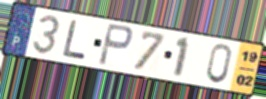0: (205, 43, 234, 85)
1: (172, 36, 191, 80)
3: (29, 14, 62, 56)
7: (132, 29, 167, 72)
L: (61, 18, 88, 61)
P: (96, 22, 135, 68)
